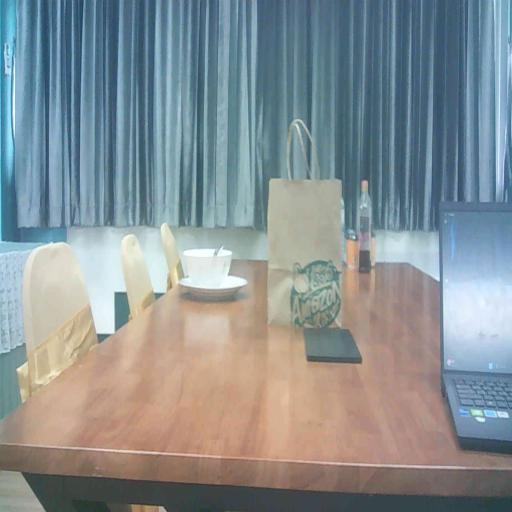bag: (265, 171, 346, 342)
